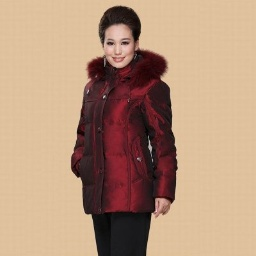face: (97, 5, 143, 69)
